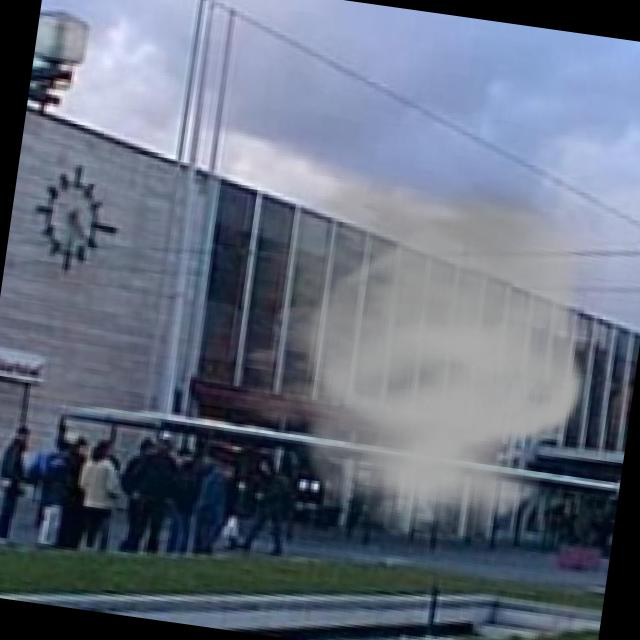Smoke: (179, 134, 618, 560)
